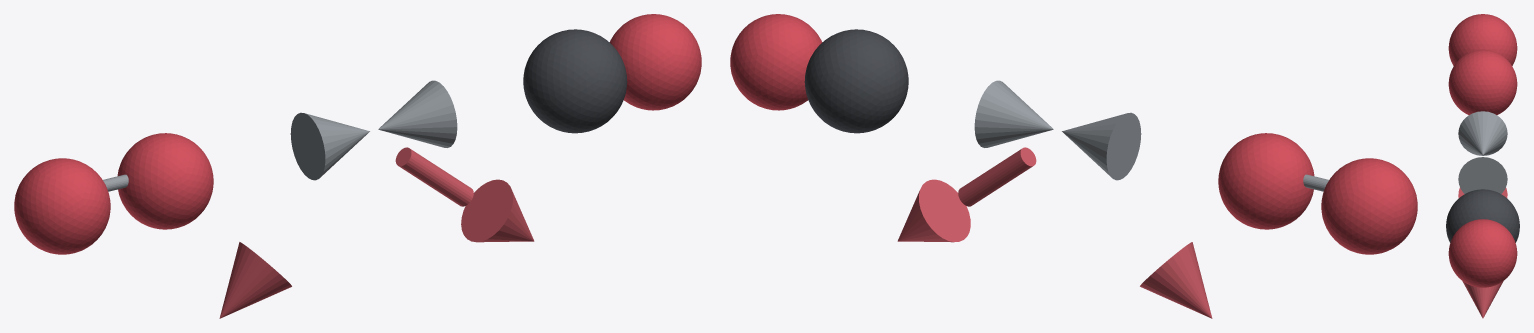
Rendered from 04-colisao-nao-efetiva.glb.
3 renders of one model, left to right at view 1: azimuth 30°, elevation 25°; view 2: azimuth 150°, elevation 25°; view 3: azimuth 270°, elevation 25°, orthographic. The views are drawn at different scales.
Visible parts, largest first — view 1: world, C, O2O1, O2O2, O, arrow; view 2: world, C, O2O1, O2O2, O, arrow; view 3: world, O, O2O2, O2O1, C.
Part boxes in pixels (x1,y1,x2,y2): world: (219,80,534,318); C: (523,29,627,133); O2O1: (14,158,110,254); O2O2: (117,133,213,229); O: (609,14,701,110); arrow: (395,147,473,206); world: (897,80,1212,318); C: (804,29,908,133); O2O1: (1321,158,1417,254); O2O2: (1218,133,1314,229); O: (730,14,822,110); arrow: (958,147,1036,206); world: (1458,111,1507,318); O: (1448,219,1517,287); O2O2: (1448,49,1517,114); O2O1: (1448,14,1517,65); C: (1446,189,1519,242).
Bounding box in the file's own units: 6.29 × 1.76 × 0.84.
